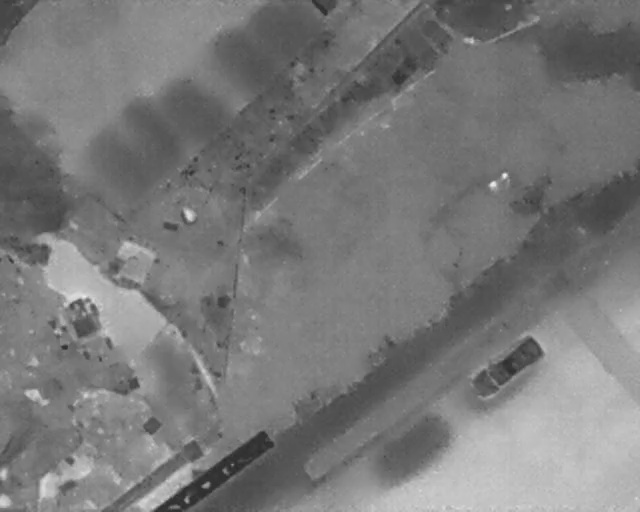Car: (461, 327, 549, 406)
